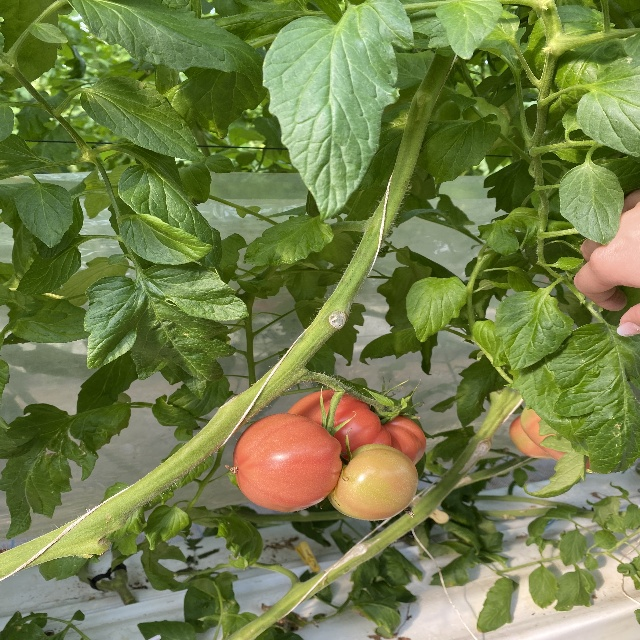b_fully_ripened: (286, 389, 428, 469)
b_half_ripened: (233, 412, 343, 511), (327, 444, 419, 521)
